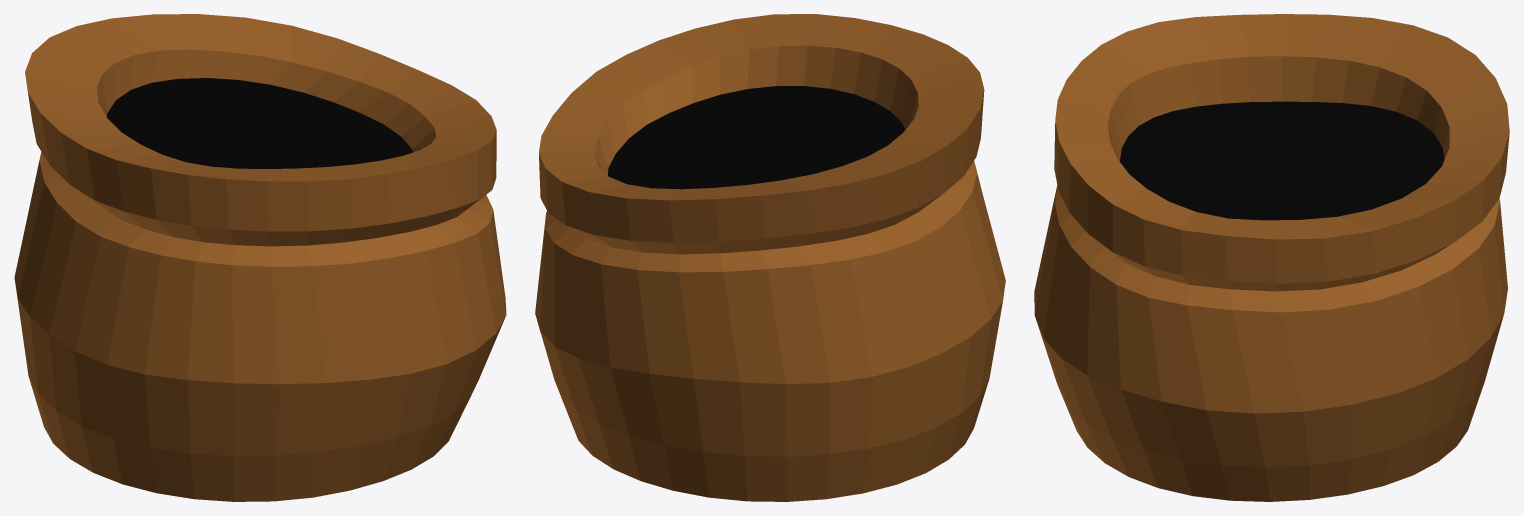
File: CoalSack.fbx
3 views of the same model, side by side, from view 1: azimuth 30°, elevation 25°; view 2: azimuth 150°, elevation 25°; view 3: azimuth 270°, elevation 25° (orthographic). The views are drawn at different scales.
Visible parts, largest first — view 1: Cylinder; view 2: Cylinder; view 3: Cylinder.
Part boxes in pixels (x1,y1,x2,y2): Cylinder: (14,14,506,501); Cylinder: (535,14,1005,501); Cylinder: (1034,14,1509,501).
Bounding box in the file's own units: 77.71 × 59.37 × 79.41.
